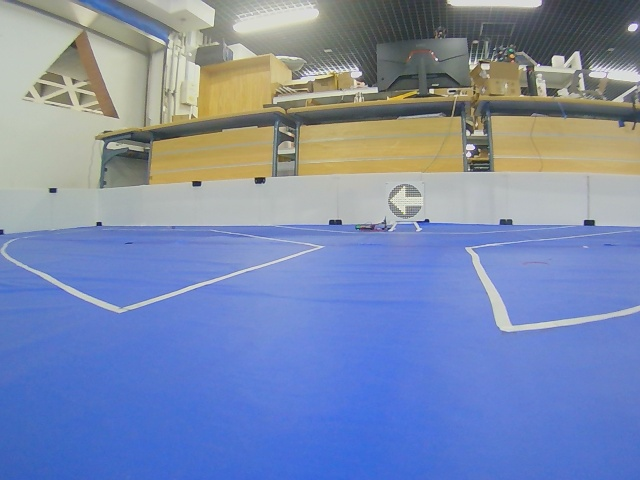left_yellow: (388, 184, 423, 219)
